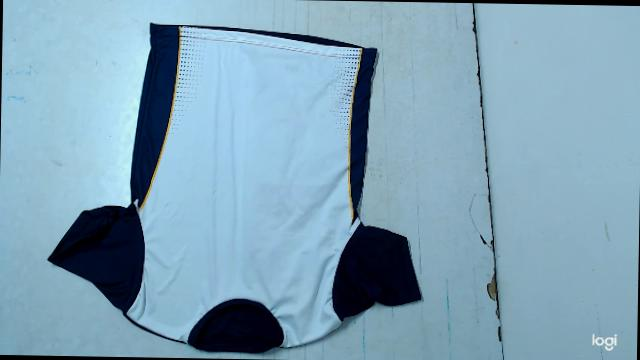new-garment: (48, 24, 421, 352)
